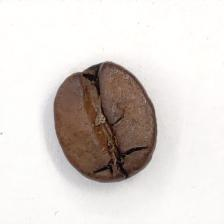NG: (78, 76, 136, 168)
